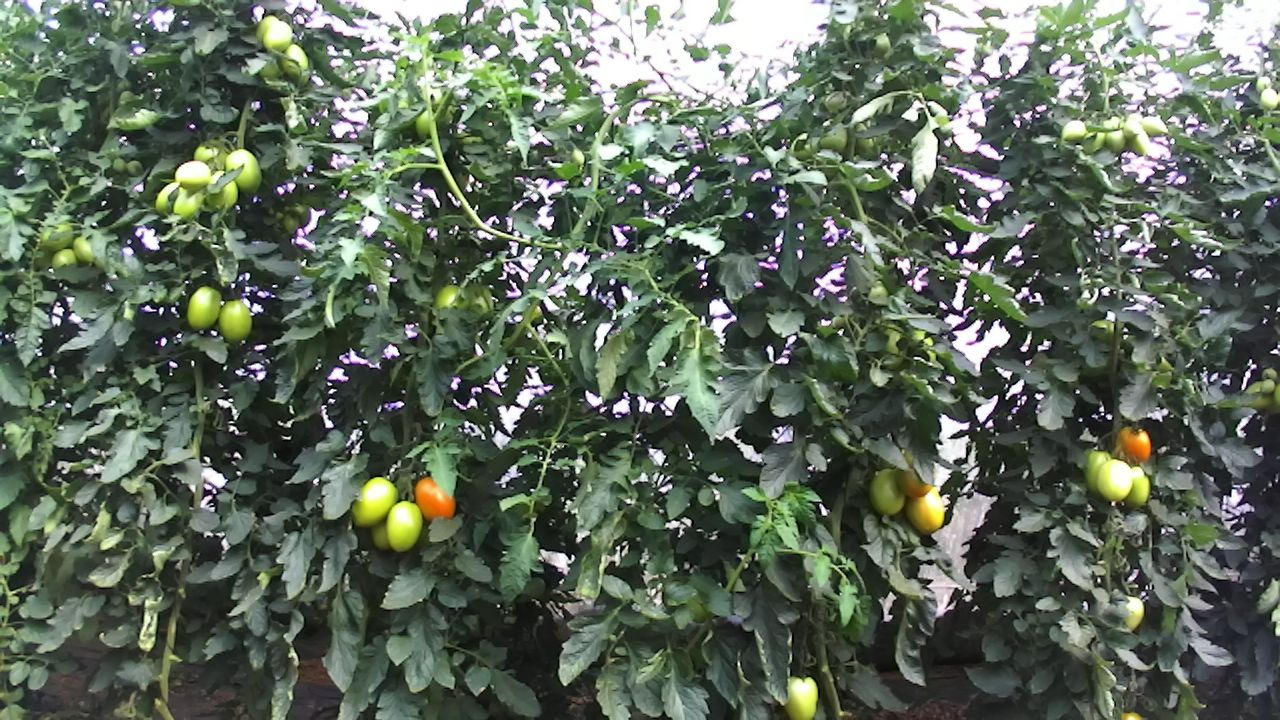tomato: (348, 474, 399, 530), (382, 498, 423, 555), (906, 483, 945, 539), (410, 474, 457, 520), (866, 464, 905, 519), (779, 672, 820, 720), (223, 148, 263, 195), (185, 283, 223, 332), (1115, 420, 1152, 469), (1095, 458, 1133, 504), (217, 298, 253, 342), (171, 158, 211, 189), (260, 18, 294, 54)
